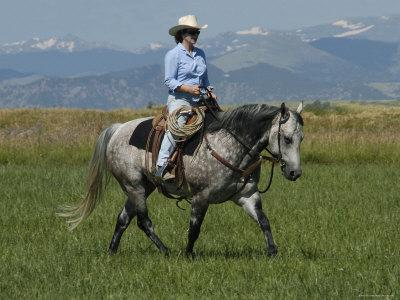person: (153, 14, 217, 183)
